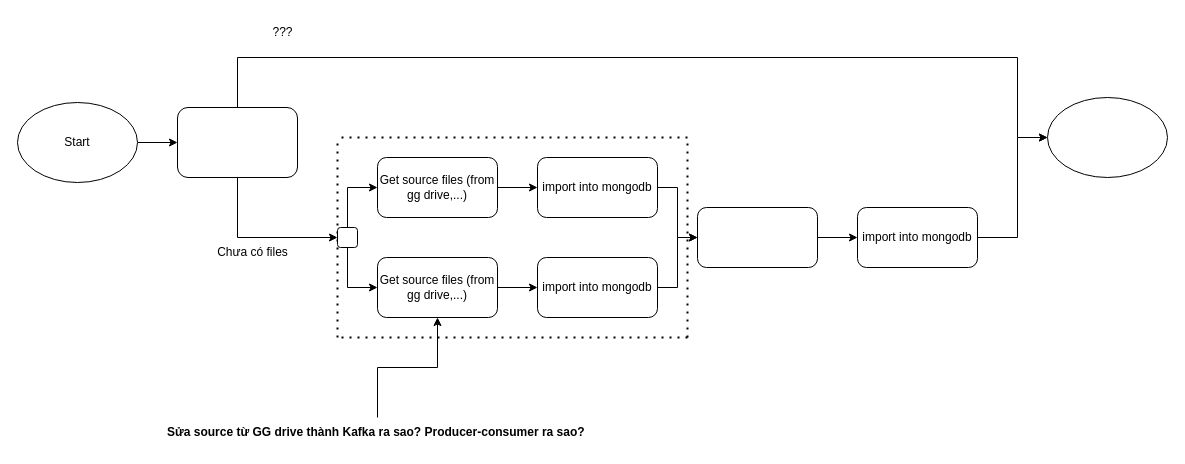
This 1185x464 diagram has some shape labels left out. The centre of each missing label's shape, as x and y in pixels:
Branching: (237,142)
End: (1107,137)
Spark_process (join, transform,...) then write file to local: (757,237)
